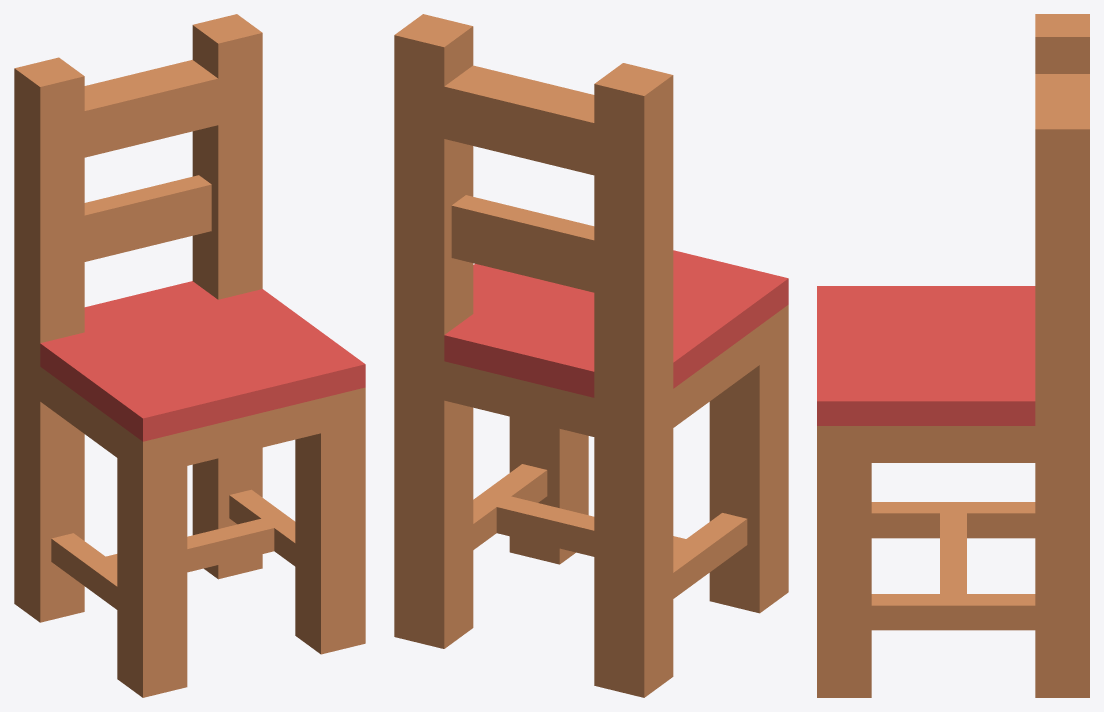
The model's file is Chair Cushion.glb.
The picture shows the model from 3 angles, left to right: view 1: azimuth 30°, elevation 25°; view 2: azimuth 150°, elevation 25°; view 3: azimuth 270°, elevation 25°; orthographic projection. The views are drawn at different scales.
Parts seen in each view (by area): view 1: chairCushion(Clone); view 2: chairCushion(Clone); view 3: chairCushion(Clone).
Boxes of the visible parts, <box> form: chairCushion(Clone): <box>14,14,365,697</box>; chairCushion(Clone): <box>394,14,788,697</box>; chairCushion(Clone): <box>817,14,1089,697</box>.
Size of the model in its own units: 0.2 by 0.46 by 0.2.
